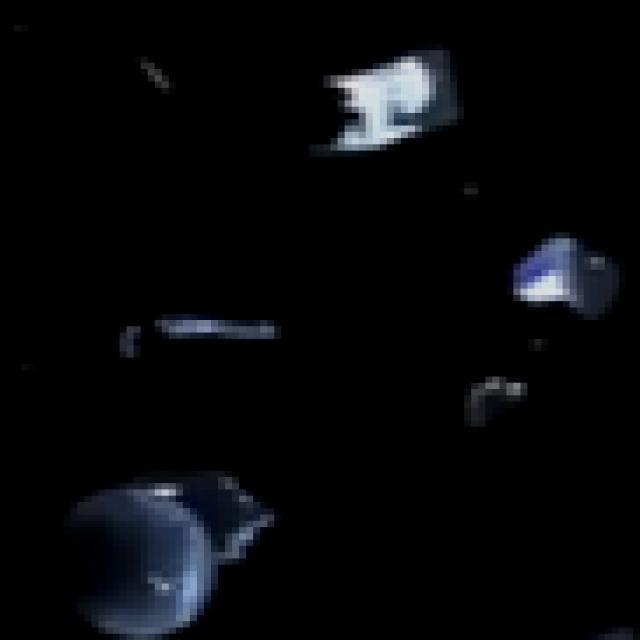large_debris: (35, 439, 355, 640), (296, 26, 470, 173), (492, 216, 636, 335), (91, 303, 302, 369), (452, 364, 534, 443), (120, 43, 198, 107)
